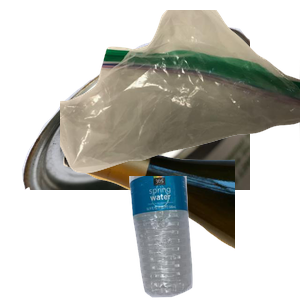glass: (60, 128, 300, 300)
metal: (19, 22, 259, 202)
plastic: (127, 176, 300, 300)
trash: (60, 10, 300, 176)
